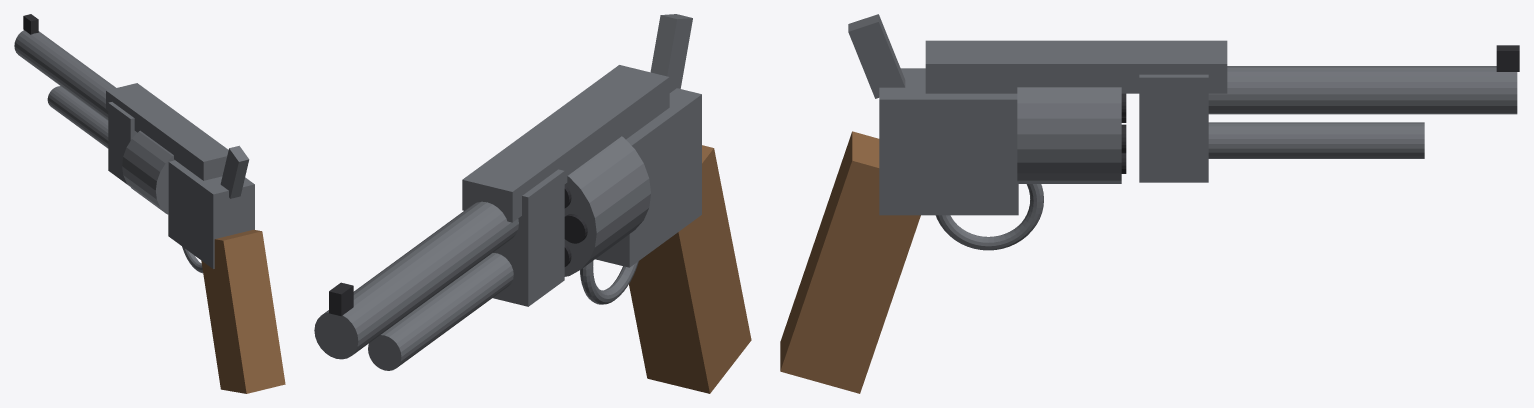
Rendered from Revolver.fbx.
The picture shows the model from 3 angles, left to right: view 1: azimuth 30°, elevation 25°; view 2: azimuth 150°, elevation 25°; view 3: azimuth 270°, elevation 25°; orthographic projection. The views are drawn at different scales.
Parts seen in each view (by area): view 1: Frame, Cylinder, Hammer; view 2: Frame, Cylinder, Hammer; view 3: Frame, Cylinder, Hammer.
Boxes of the visible parts, bbox=[...] form: Frame: bbox=[14, 14, 285, 393]; Cylinder: bbox=[122, 130, 174, 214]; Hammer: bbox=[220, 145, 249, 198]; Frame: bbox=[314, 65, 751, 393]; Cylinder: bbox=[564, 136, 650, 276]; Hammer: bbox=[650, 14, 692, 92]; Frame: bbox=[780, 40, 1519, 393]; Cylinder: bbox=[1017, 87, 1126, 183]; Hammer: bbox=[848, 14, 905, 98].
Size of the model in its own units: 0.052 by 0.1718 by 0.3187.
